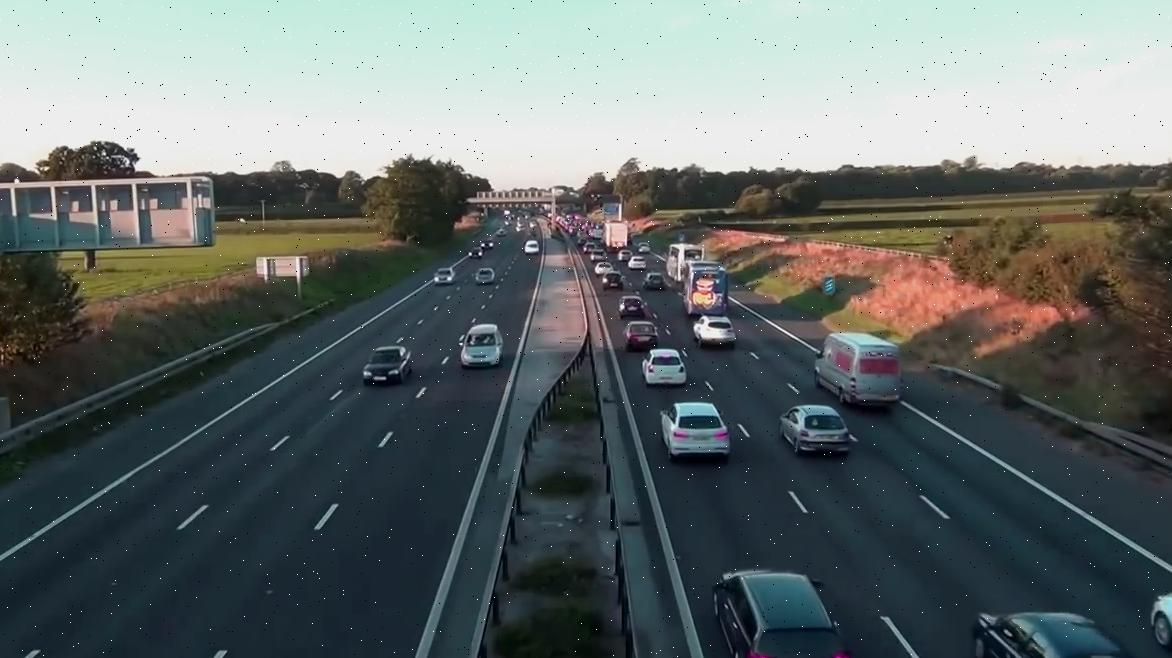bus: (817, 330, 904, 407), (687, 260, 731, 310), (455, 326, 502, 370)
car: (714, 566, 857, 658), (977, 606, 1136, 658), (778, 407, 851, 450), (359, 346, 409, 384), (643, 348, 686, 385), (665, 244, 704, 280), (672, 401, 726, 426), (694, 316, 736, 346), (625, 320, 661, 350), (621, 298, 651, 319), (602, 271, 626, 293), (642, 273, 669, 291), (432, 267, 454, 285), (472, 270, 495, 285)
